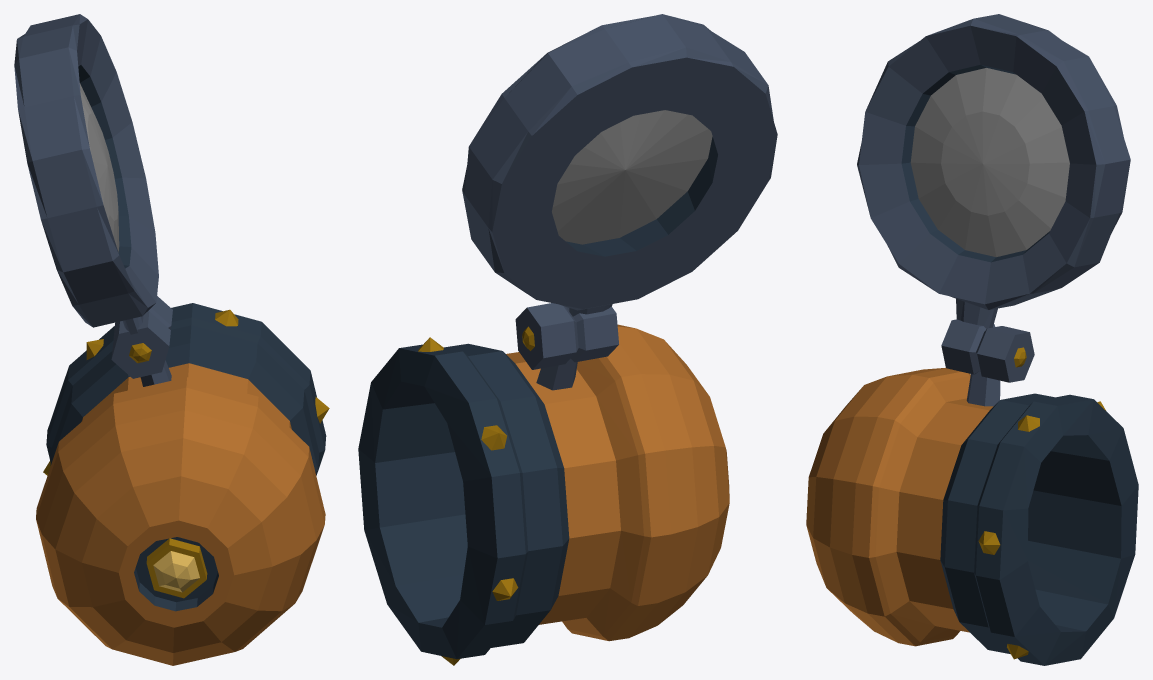
The model's file is loupe-thumb-cap-f3bbd1.glb.
3 views of the same model, side by side, from view 1: azimuth 30°, elevation 25°; view 2: azimuth 150°, elevation 25°; view 3: azimuth 270°, elevation 25° (orthographic). The views are drawn at different scales.
Visible parts, largest first — view 1: loupe-thumb-cap; view 2: loupe-thumb-cap; view 3: loupe-thumb-cap.
Part boxes in pixels (left/top/right/bottom): loupe-thumb-cap: left=14, top=14, right=329, bottom=665; loupe-thumb-cap: left=358, top=14, right=777, bottom=665; loupe-thumb-cap: left=806, top=14, right=1138, bottom=665.
Size of the model in its own units: 0.0314 by 0.0541 by 0.0282.
